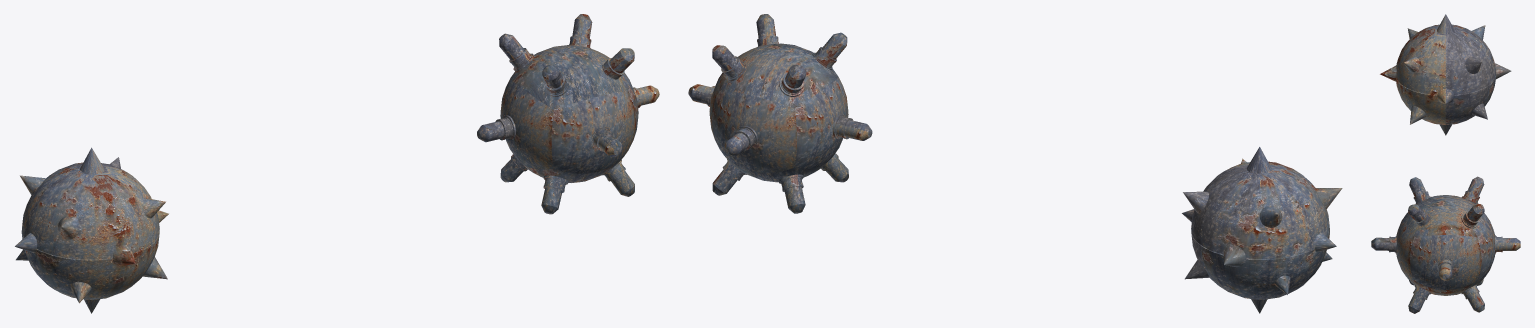
The model's file is mine tex.fbx.
3 renders of one model, left to right at view 1: azimuth 30°, elevation 25°; view 2: azimuth 150°, elevation 25°; view 3: azimuth 270°, elevation 25°, orthographic. The views are drawn at different scales.
Visible parts, largest first — view 1: Sphere_2, Sphere_1; view 2: Sphere_2, Sphere_1; view 3: Sphere_2, Sphere_1.
Boxes of the visible parts, x1=… form: Sphere_2: x1=477, y1=14, x2=659, y2=214; Sphere_1: x1=15, y1=147, x2=168, y2=313; Sphere_2: x1=688, y1=14, x2=872, y2=213; Sphere_1: x1=1182, y1=147, x2=1342, y2=313; Sphere_2: x1=1371, y1=176, x2=1520, y2=313; Sphere_1: x1=1380, y1=14, x2=1511, y2=135.
Size of the model in its own units: 1072 by 265 by 295.
1 material, 1 textured.
